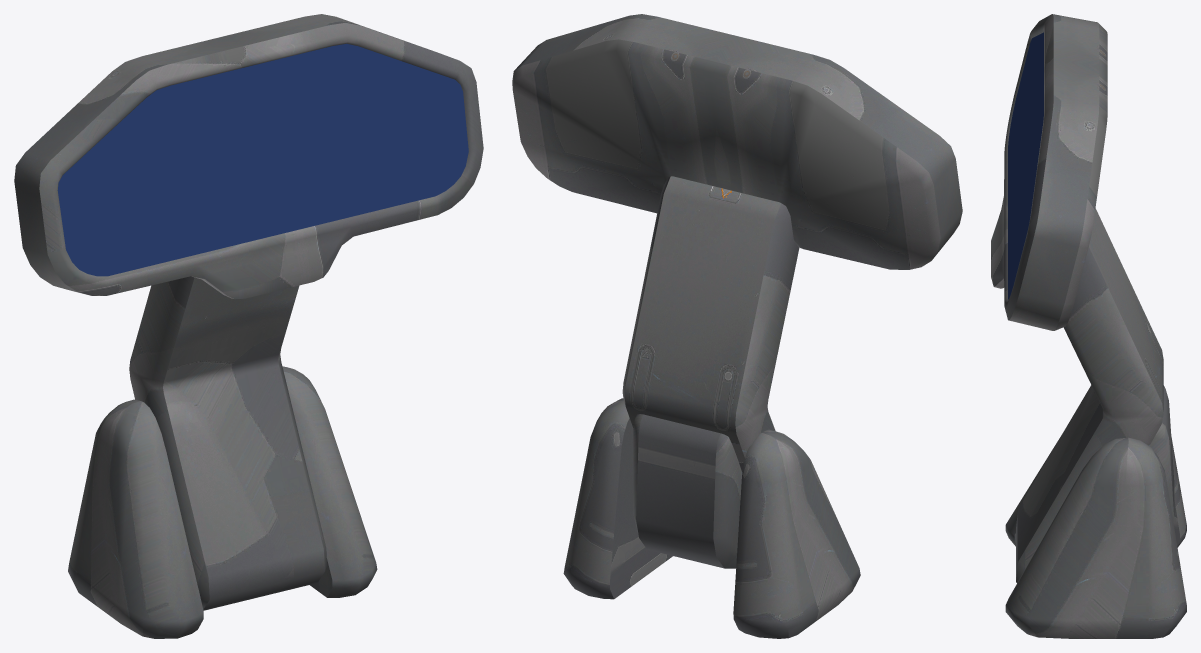
Rendered from control_terminal_01.obj.
3 renders of one model, left to right at view 1: azimuth 30°, elevation 25°; view 2: azimuth 150°, elevation 25°; view 3: azimuth 270°, elevation 25°, orthographic. The views are drawn at different scales.
Visible parts, largest first — view 1: body, screen; view 2: body; view 3: body, screen.
Part boxes in pixels (x1=…): body: x1=14, y1=14, x2=483, y2=638; screen: x1=57, y1=43, x2=468, y2=276; body: x1=512, y1=14, x2=962, y2=638; body: x1=991, y1=14, x2=1186, y2=638; screen: x1=1008, y1=32, x2=1043, y2=299.
Bounding box in the file's own units: 1.57 × 1.9 × 0.6397.
